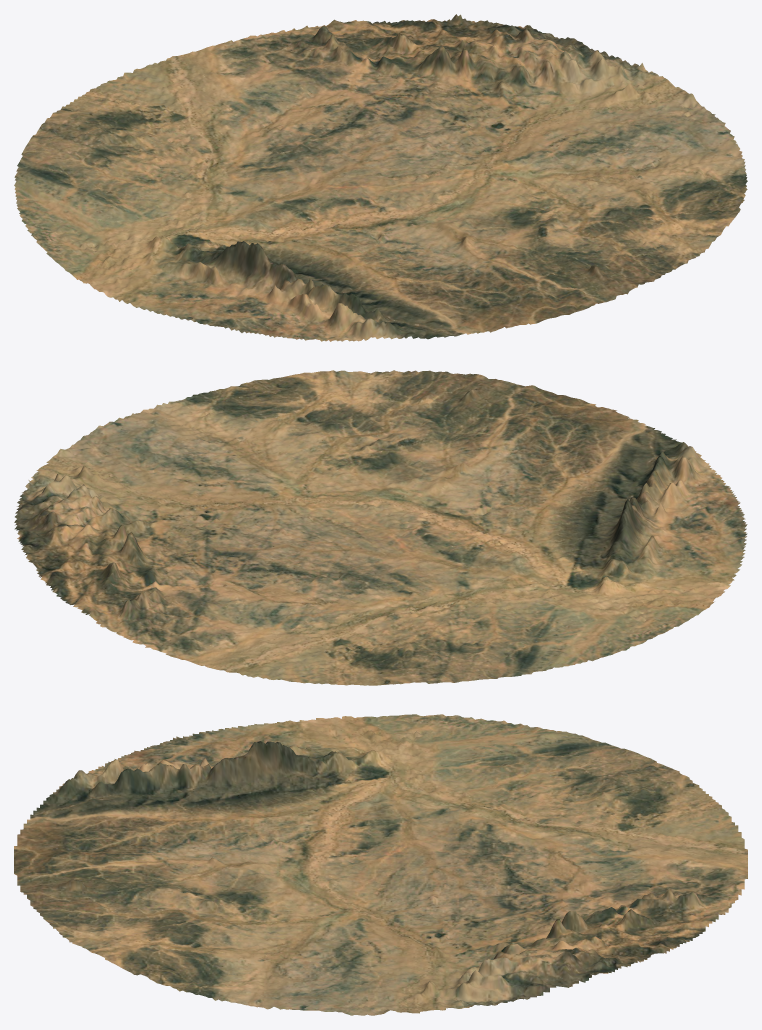
File: terrain-2k.glb
3 renders of one model, top to bottom at view 1: azimuth 30°, elevation 25°; view 2: azimuth 150°, elevation 25°; view 3: azimuth 270°, elevation 25°, orthographic.
Parts seen in each view (by area): view 1: 3DTexel_Backdrop; view 2: 3DTexel_Backdrop; view 3: 3DTexel_Backdrop.
Part boxes in pixels (bbox=[...]): 3DTexel_Backdrop: bbox=[14, 14, 747, 341]; 3DTexel_Backdrop: bbox=[14, 370, 747, 685]; 3DTexel_Backdrop: bbox=[14, 714, 747, 1015].
Size of the model in its own units: 44.14 by 2.76 by 44.14.
Materials: 1 (1 with a texture image).
